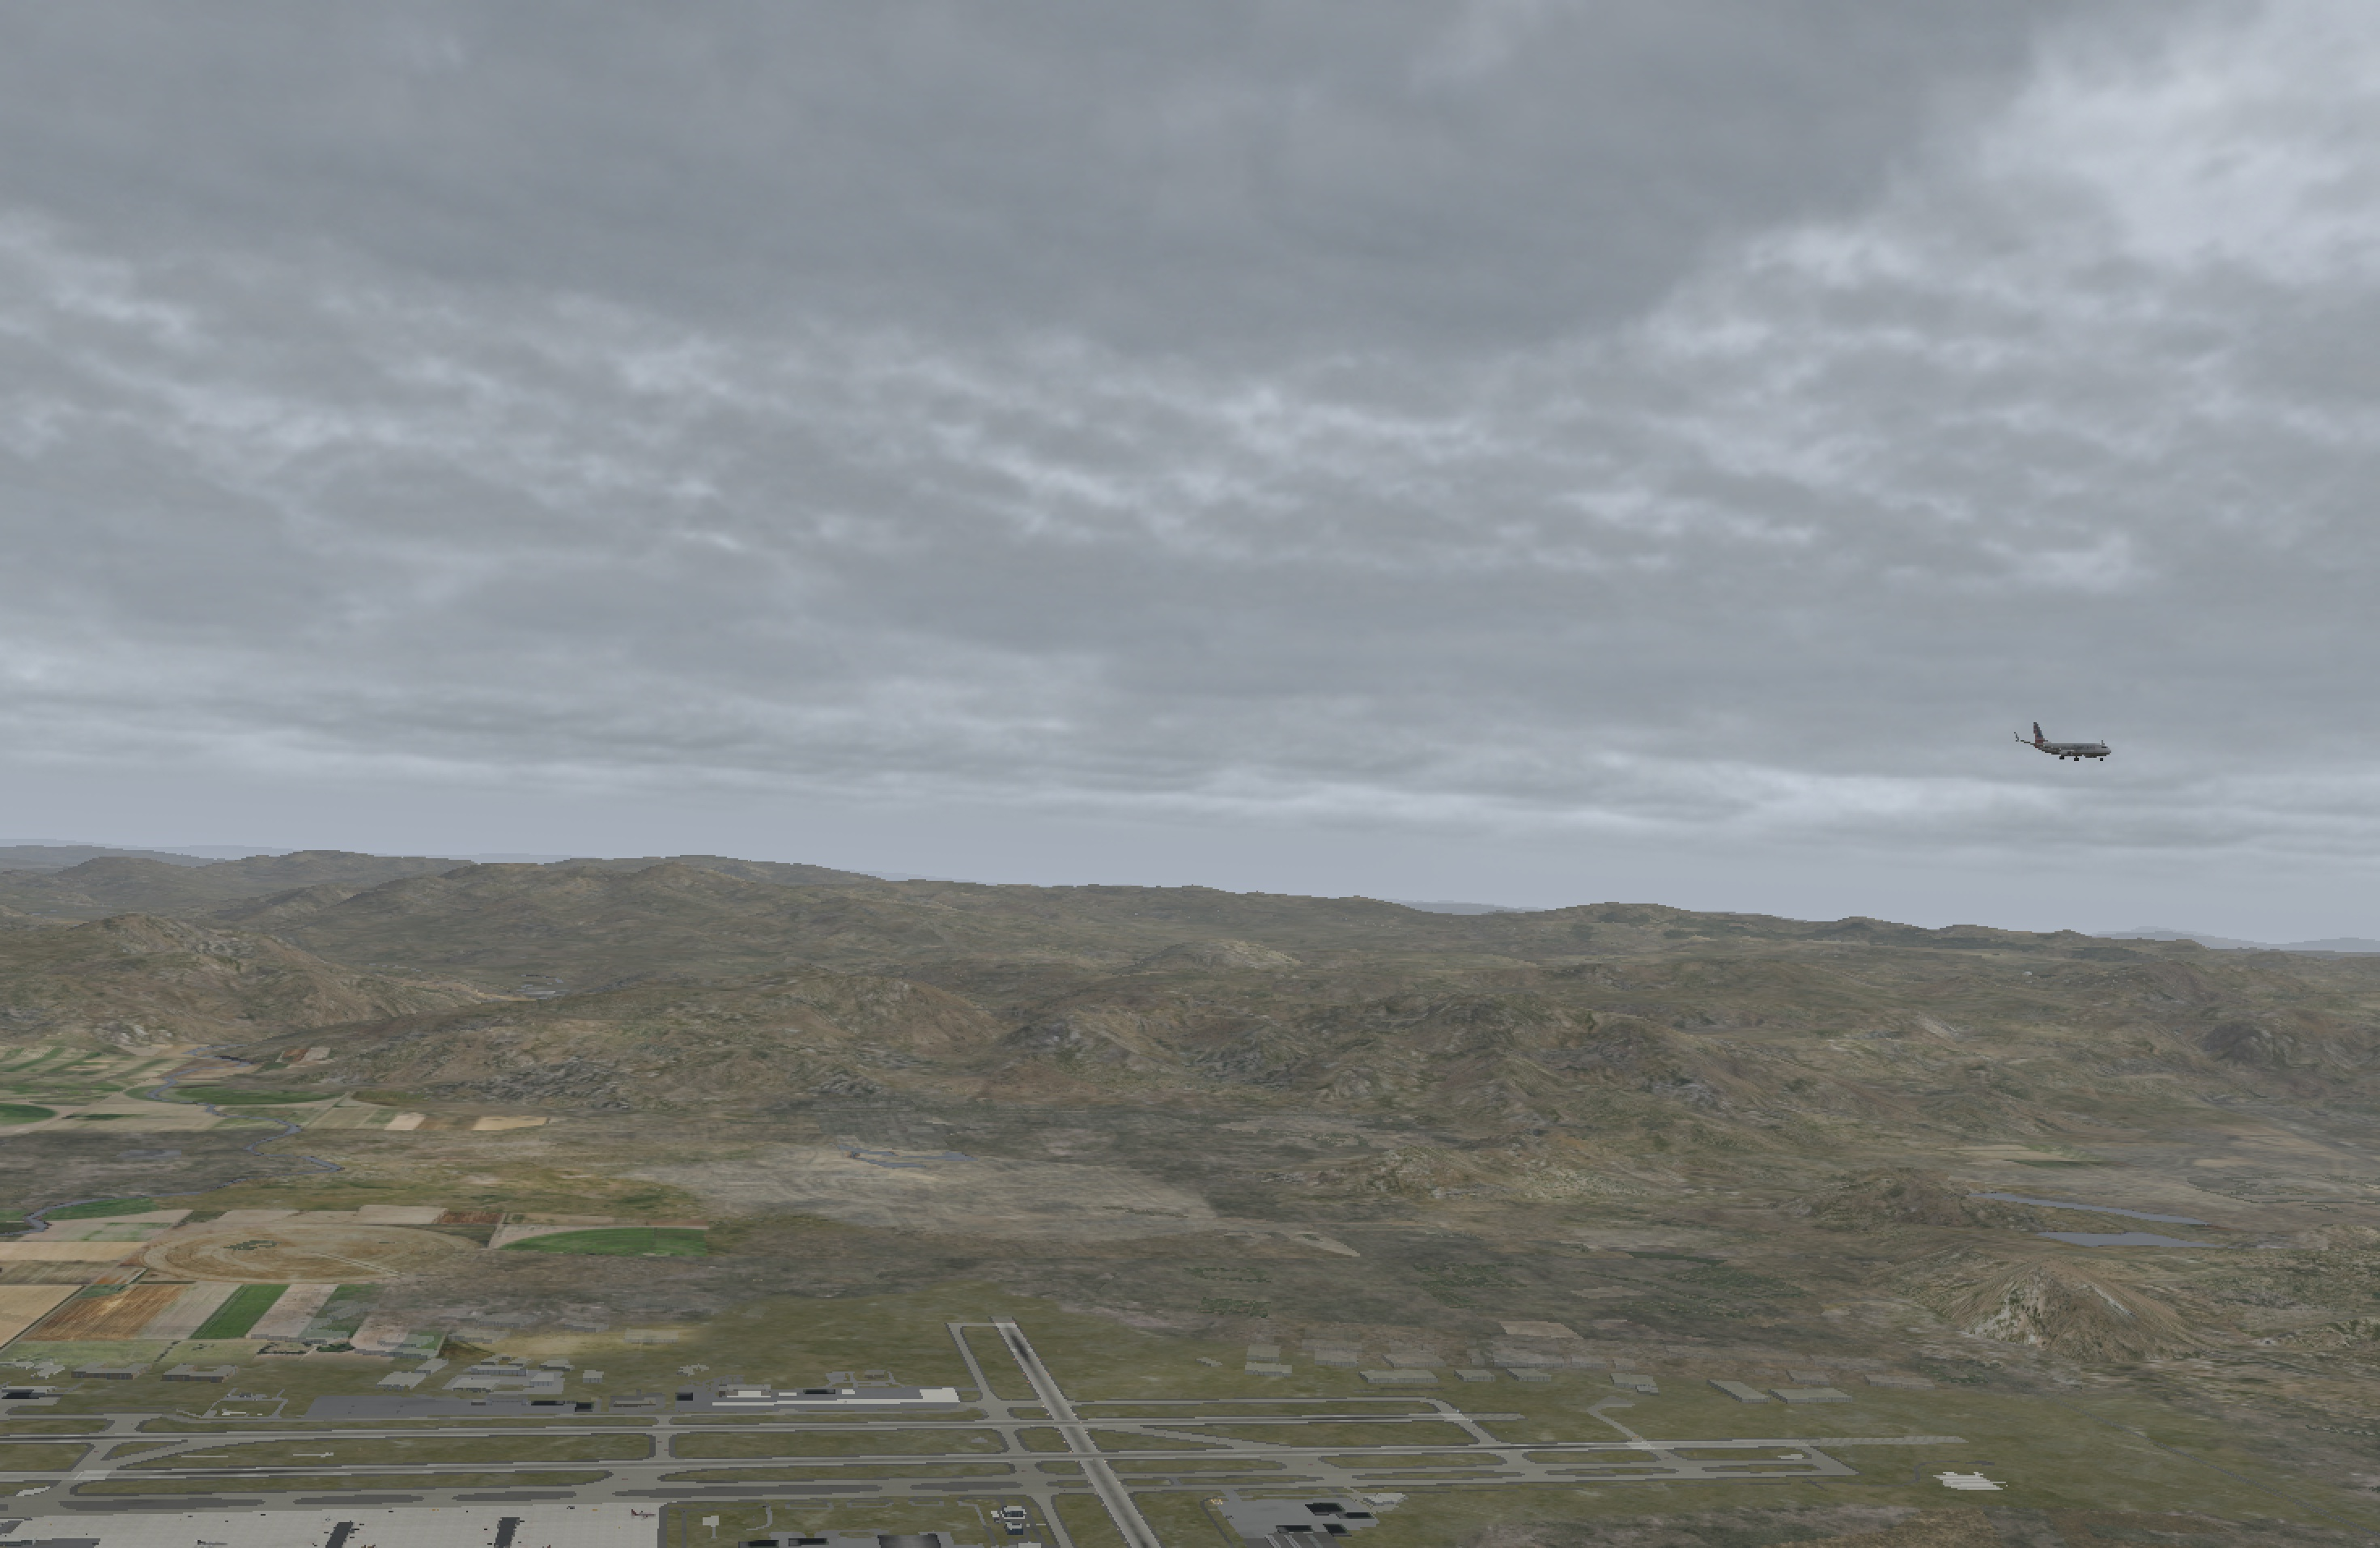aircraft: (2017, 731, 2127, 771)
